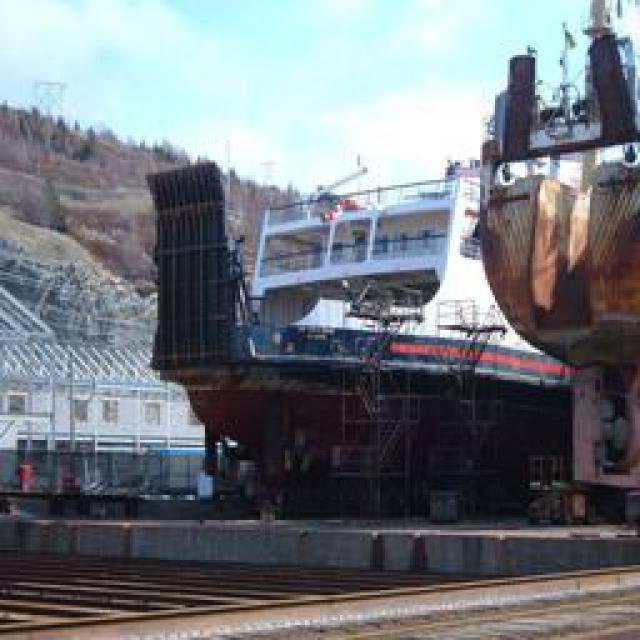Ship: (235, 186, 560, 379)
